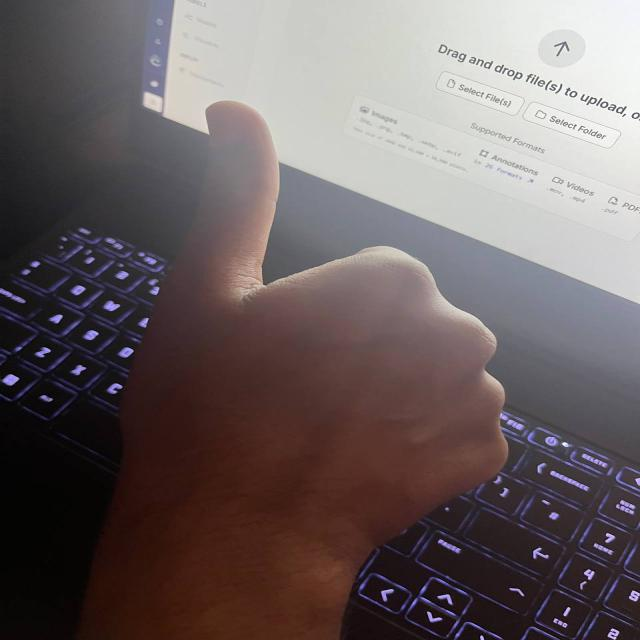hand thumb up: (129, 98, 511, 572)
